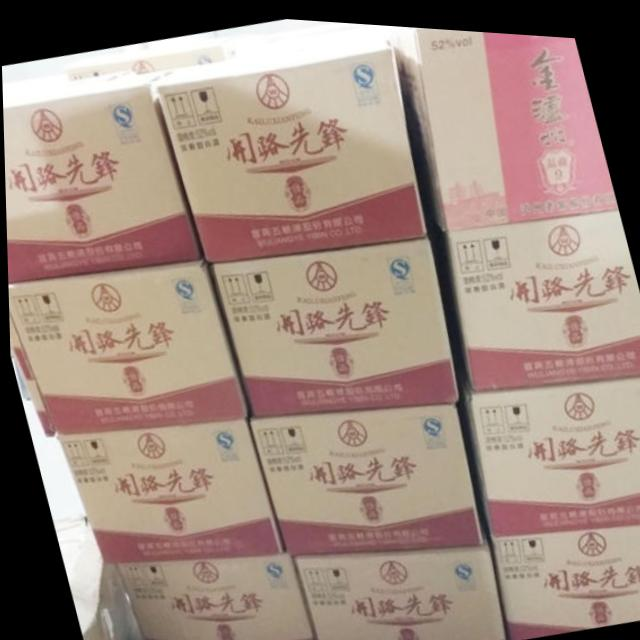box: (157, 26, 424, 256), (205, 231, 457, 413), (388, 20, 615, 222), (2, 62, 200, 283), (7, 263, 243, 433), (439, 201, 640, 382), (246, 396, 480, 548), (53, 412, 280, 563), (464, 365, 640, 530), (288, 537, 505, 640), (110, 552, 311, 640), (485, 517, 640, 631), (56, 520, 140, 640), (64, 27, 254, 79), (231, 17, 390, 51), (8, 346, 53, 437), (67, 589, 110, 640), (7, 311, 20, 348)
